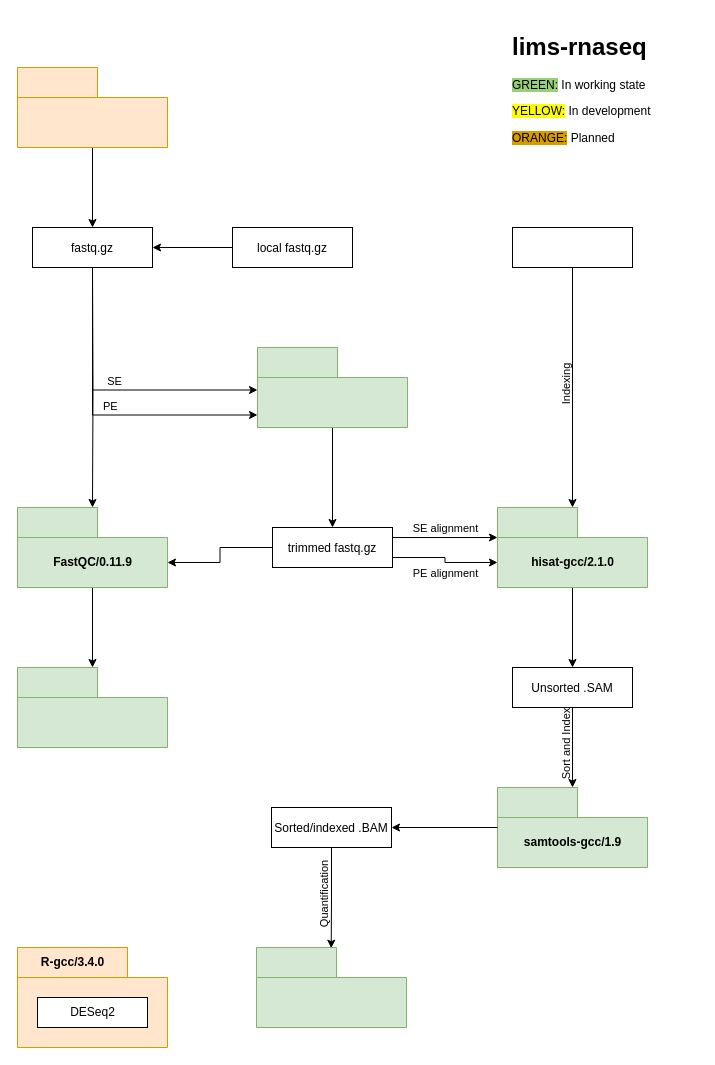
Some shapes in this 715 by 1065 pixel diagram are drawn without their labels. The shapes that lost their labels are listed below. From the top down, each one's centre as x and y in pixels, then its label:
At (x=92, y=107): "Aspera Connect".
At (x=572, y=247): "genome.fasta".
At (x=332, y=387): "trimgalore/0.6.3".
At (x=92, y=707): "MultiQC/1.9".
At (x=331, y=987): "featureCounts/1.6.0".
